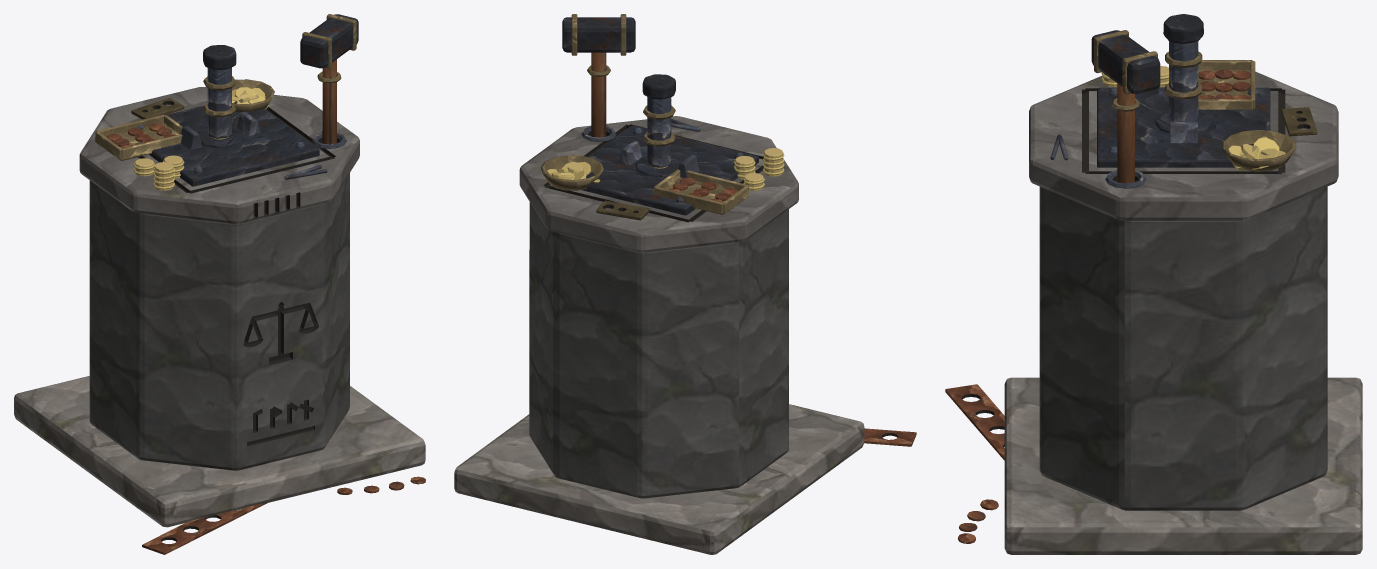
The model's file is bv_minting_block.glb.
3 views of the same model, side by side, from view 1: azimuth 30°, elevation 25°; view 2: azimuth 150°, elevation 25°; view 3: azimuth 270°, elevation 25° (orthographic). The views are drawn at different scales.
Parts seen in each view (by area): view 1: model; view 2: model; view 3: model.
Part boxes in pixels (x1=…): model: x1=14, y1=14, x2=425, y2=554; model: x1=454, y1=14, x2=916, y2=554; model: x1=945, y1=14, x2=1362, y2=554.
Bounding box in the file's own units: 0.6985 × 0.9287 × 0.7228.
23 materials, 10 textured.
